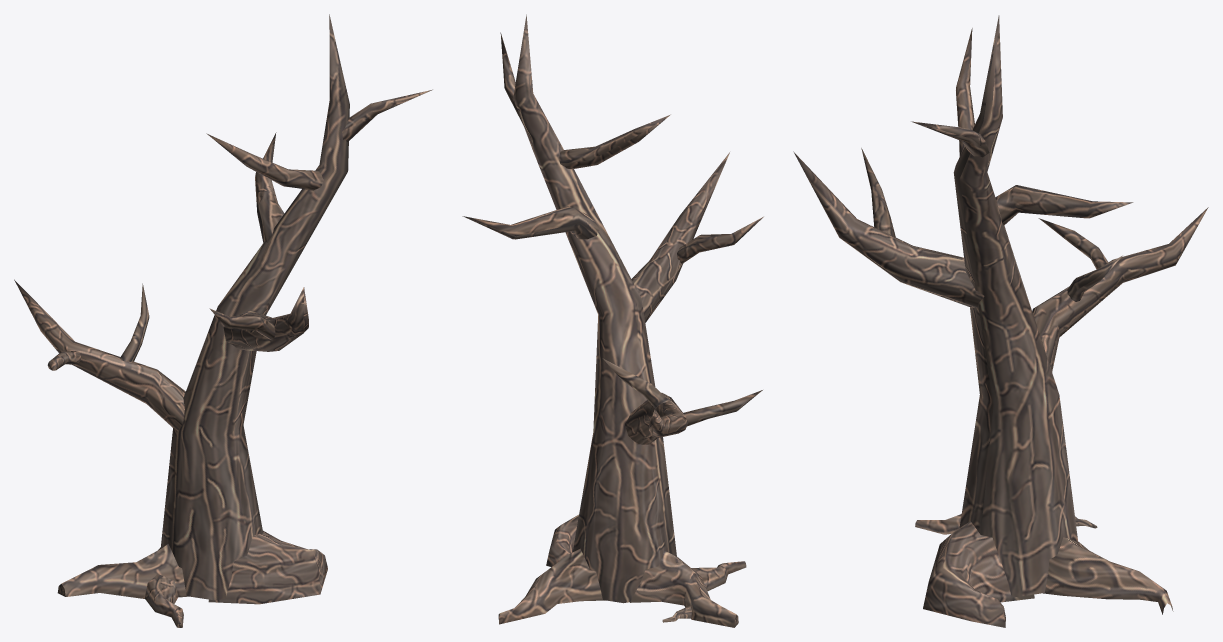
The model's file is Mesh_Tree_Dead_1.FBX.
3 renders of one model, left to right at view 1: azimuth 30°, elevation 25°; view 2: azimuth 150°, elevation 25°; view 3: azimuth 270°, elevation 25°, orthographic. The views are drawn at different scales.
Visible parts, largest first — view 1: Trunk; view 2: Trunk; view 3: Trunk.
Boxes of the visible parts, bbox=[...] form: Trunk: bbox=[14, 14, 432, 627]; Trunk: bbox=[462, 14, 763, 627]; Trunk: bbox=[793, 15, 1208, 627].
Size of the model in its own units: 210 by 347 by 206.
